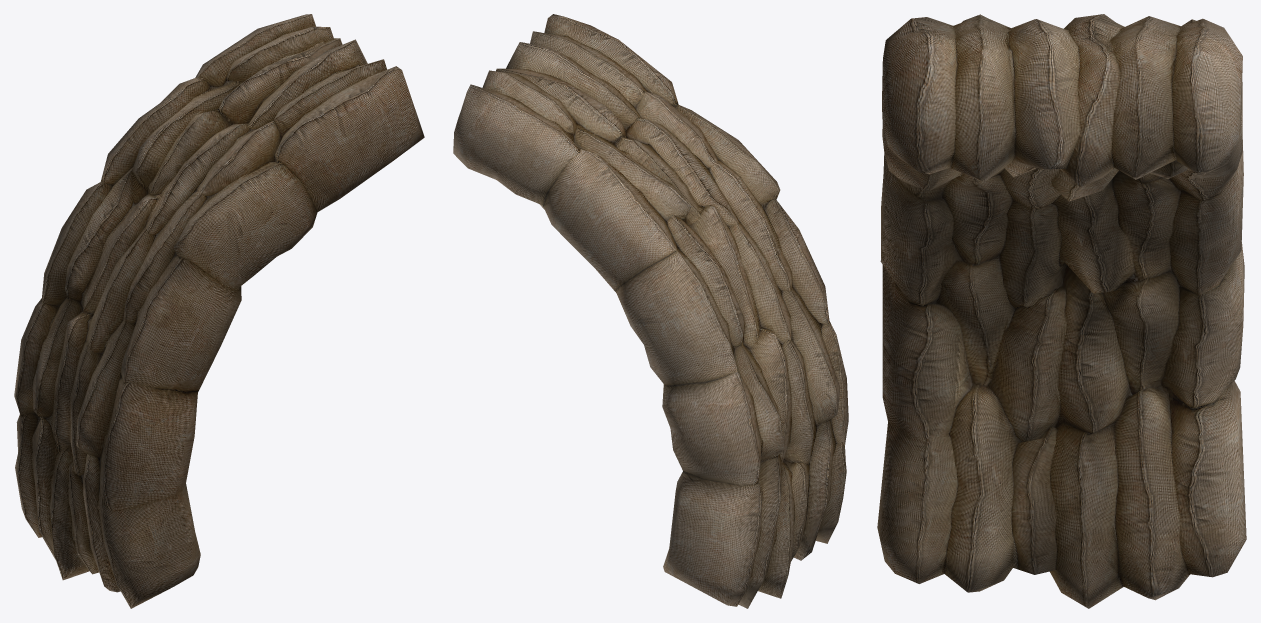
3 views of the same model, side by side, from view 1: azimuth 30°, elevation 25°; view 2: azimuth 150°, elevation 25°; view 3: azimuth 270°, elevation 25° (orthographic). The views are drawn at different scales.
Parts seen in each view (by area): view 1: shabao_003; view 2: shabao_003; view 3: shabao_003.
Part boxes in pixels (left/top/right/bottom): shabao_003: left=14, top=14, right=424, bottom=608; shabao_003: left=453, top=14, right=848, bottom=608; shabao_003: left=877, top=14, right=1246, bottom=608.
Size of the model in its own units: 416 by 587 by 260.
